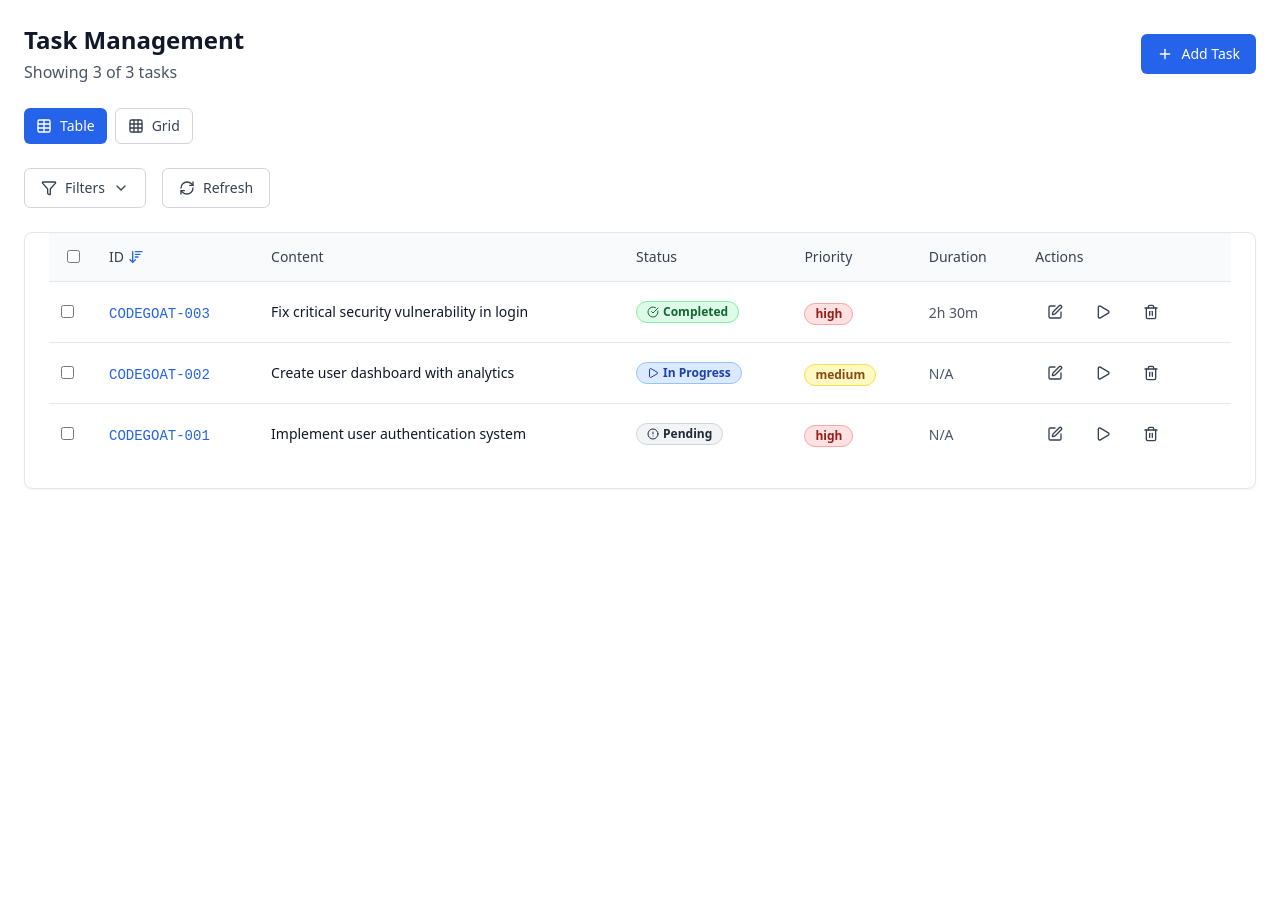
Test case: TaskManagement › Task Creation › cancels task creation
The width and height of the screenshot is (1280, 900).
Expected: the heading "Task Management" is shown, [24, 24, 244, 56]
Open create form
Step 1. Click the button "Add Task" → {"x": 1199, "y": 54}, box [1142, 34, 1256, 74]
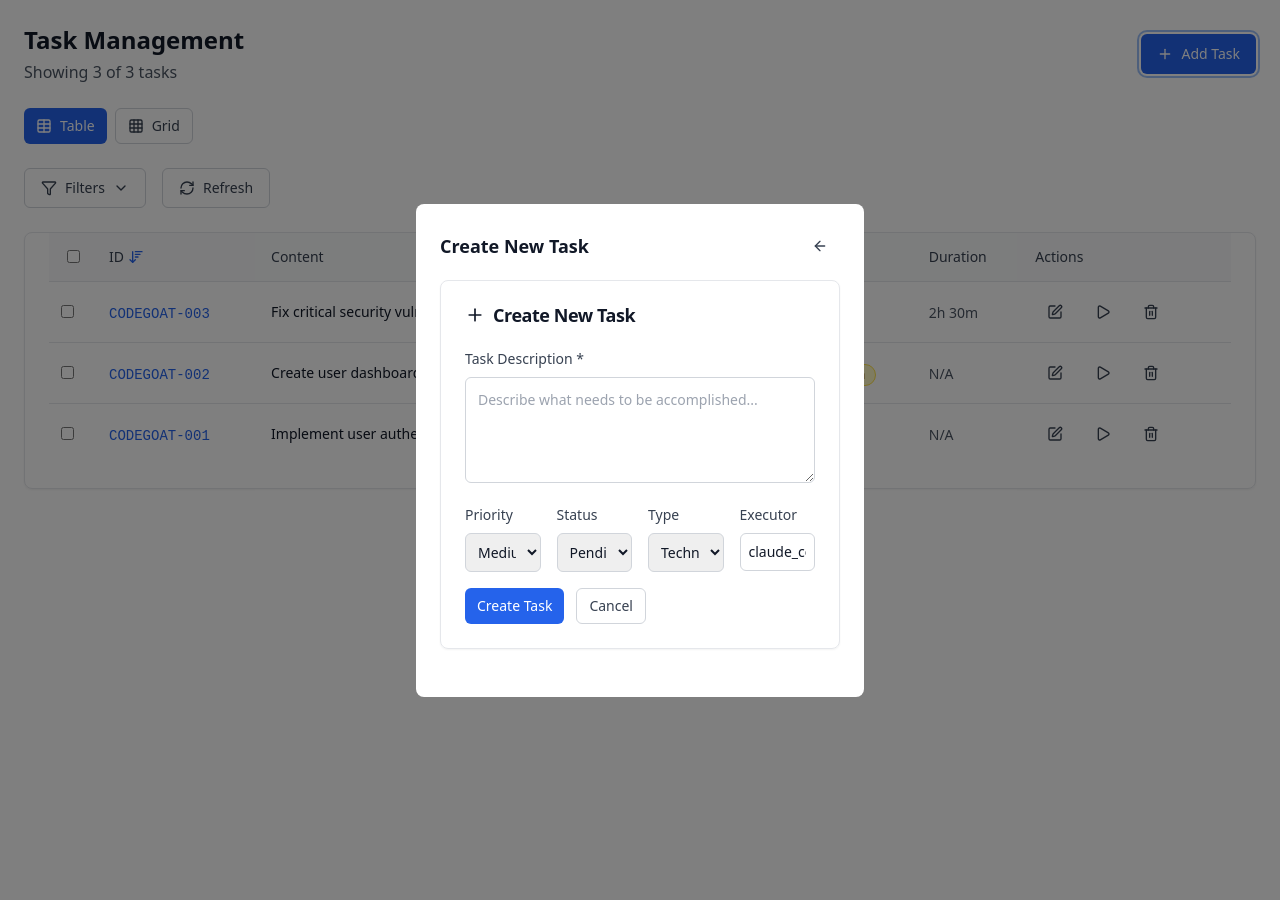
Step 2. Click the button "Cancel" → {"x": 611, "y": 606}, box [576, 588, 646, 624]
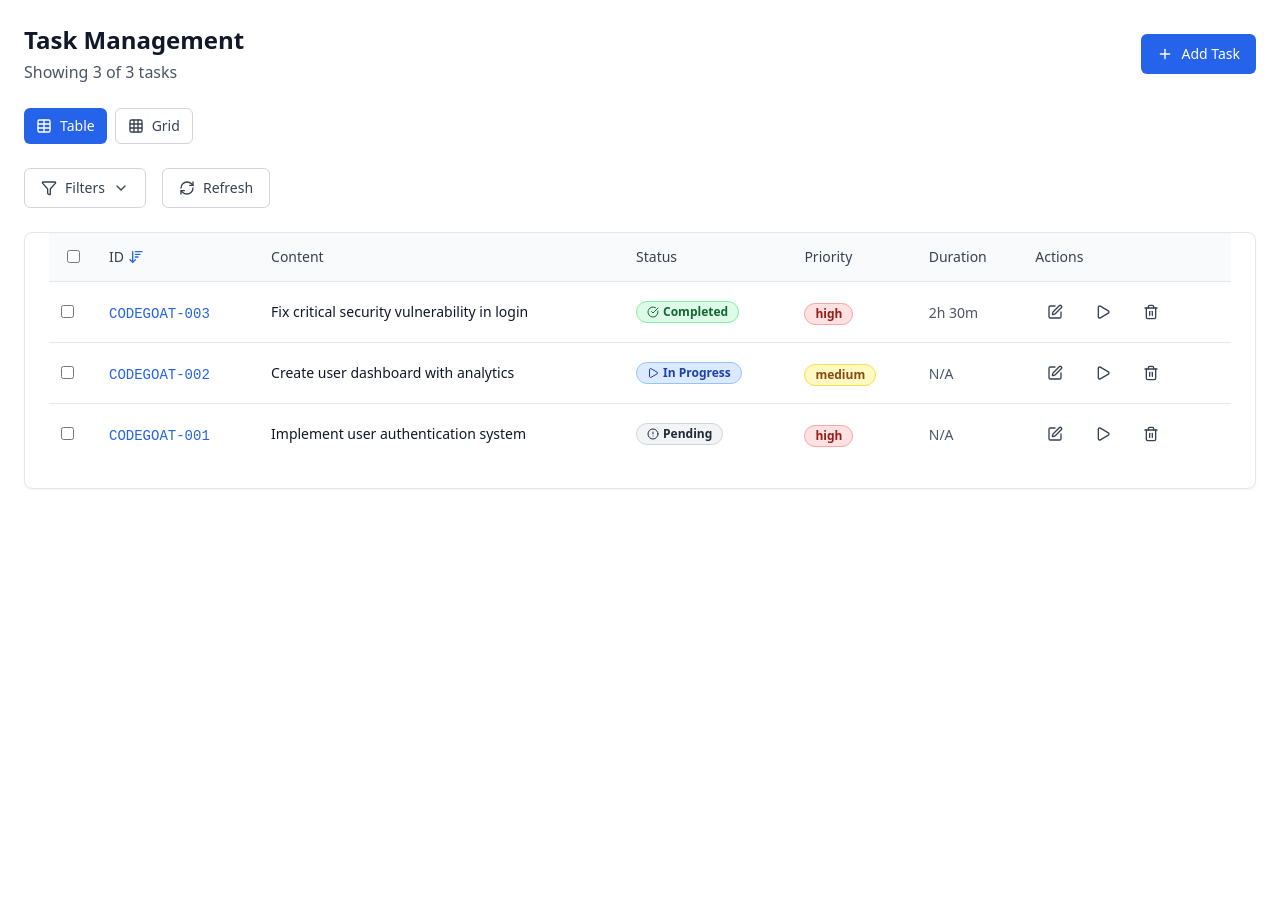
Result: the heading "Create New Task" is gone
